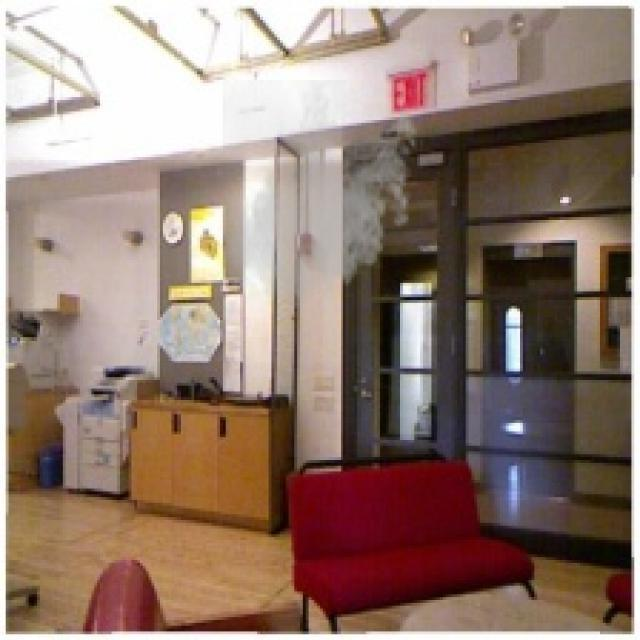Smoke: (223, 80, 423, 317)
